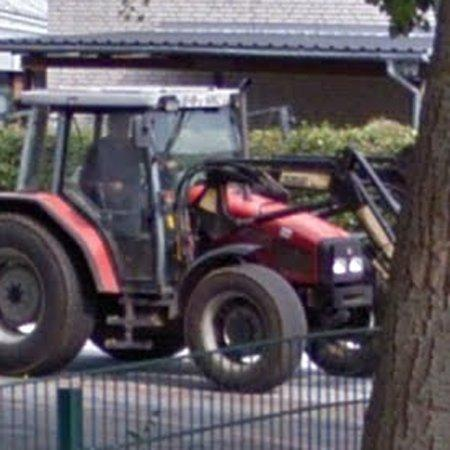tractors: (0, 86, 404, 393)
